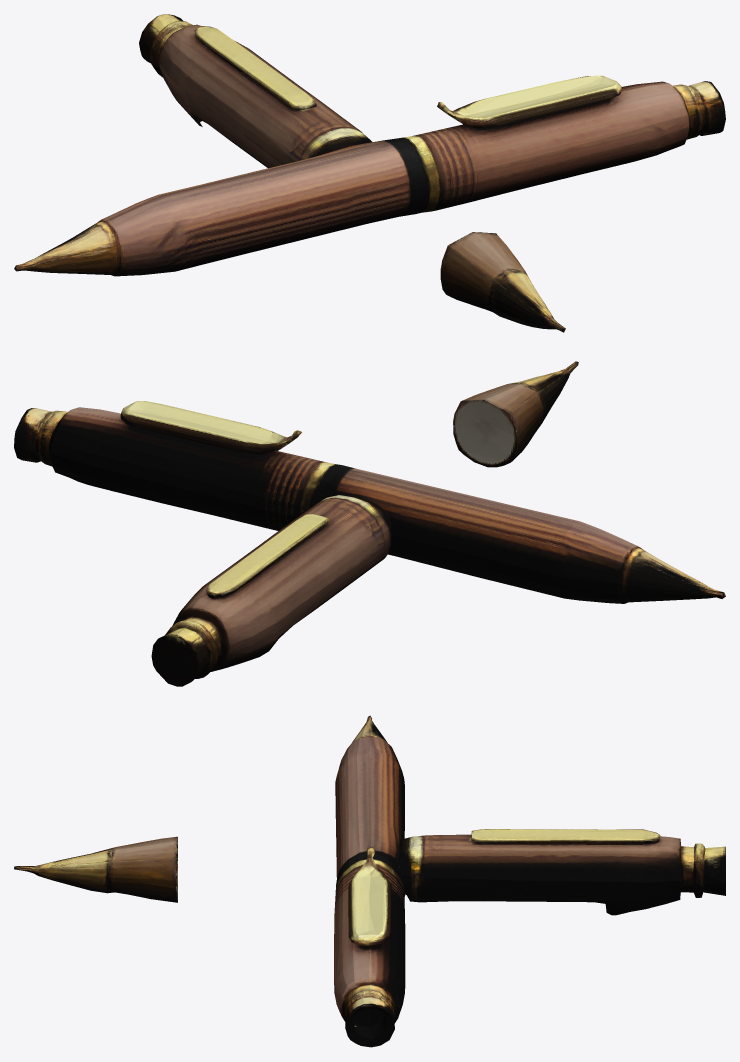
The model's file is wooden-pen-3d.jpeg.glb.
3 renders of one model, top to bottom at view 1: azimuth 30°, elevation 25°; view 2: azimuth 150°, elevation 25°; view 3: azimuth 270°, elevation 25°, orthographic. The views are drawn at different scales.
Visible parts, largest first — view 1: world; view 2: world; view 3: world.
Boxes of the visible parts, box(x1,y1,x2,y2) form: world: box(14, 14, 725, 332); world: box(14, 361, 725, 686); world: box(14, 715, 725, 1047).
Bounding box in the file's own units: 1 × 0.1413 × 1.
1 material, 1 textured.
